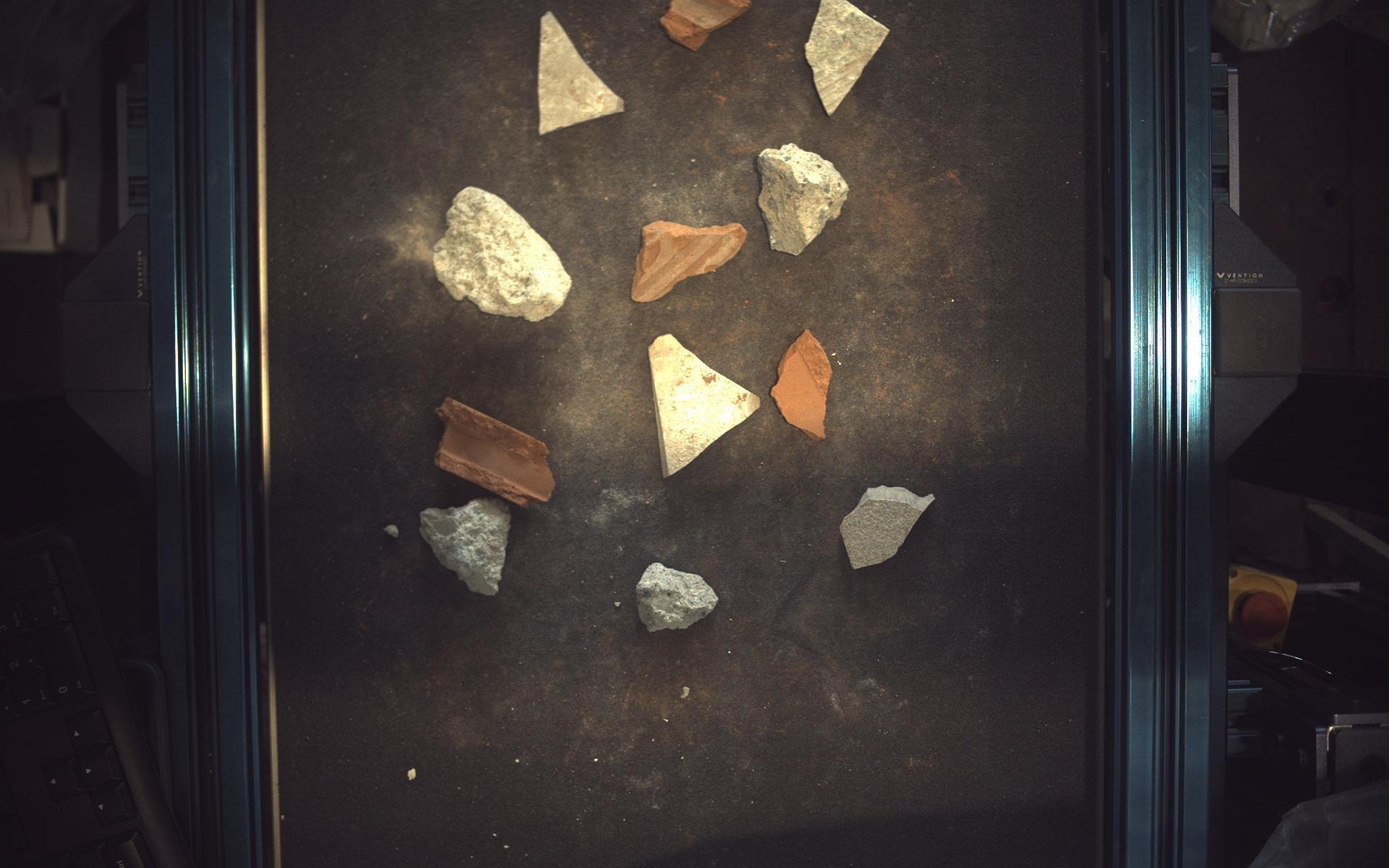brick: (436, 397, 556, 507), (632, 220, 748, 302), (772, 329, 834, 440), (661, 1, 752, 48)
concrete: (433, 186, 572, 321), (758, 142, 850, 255), (421, 498, 511, 596), (637, 563, 719, 633)
tile: (650, 333, 762, 477), (538, 10, 625, 133), (807, 1, 891, 114), (841, 486, 937, 569)
